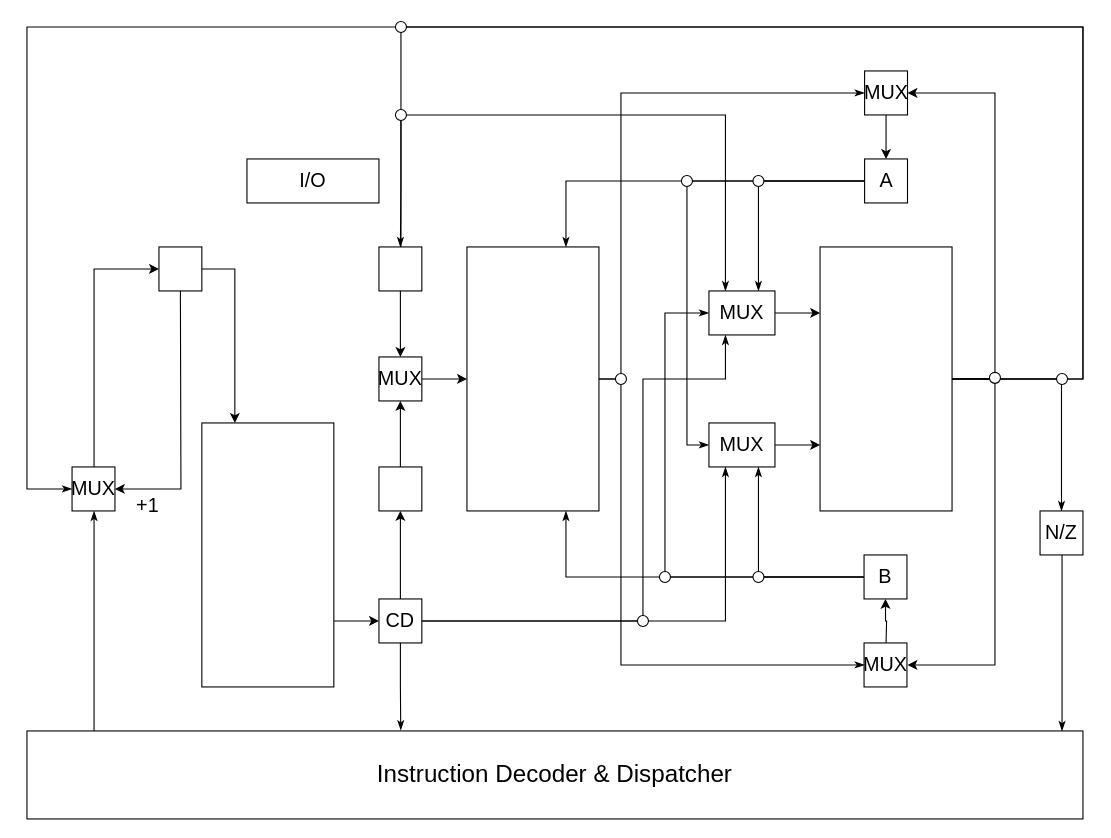
Some shapes in this 1111 by 838 pixel diagram are drawn without their labels. Here are the shapes that lost their labels. From the top down, the centre of each, then its label:
At pixel 180 268: "IP".
At pixel 400 268: "SP".
At pixel 532 378: "Data Memory".
At pixel 885 378: "ALU".
At pixel 400 488: "MP".
At pixel 267 554: "Instruction Memory".
